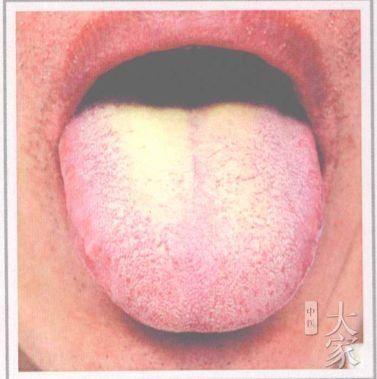hongshe: (58, 81, 323, 332)
huangtaishe: (58, 81, 323, 332)
